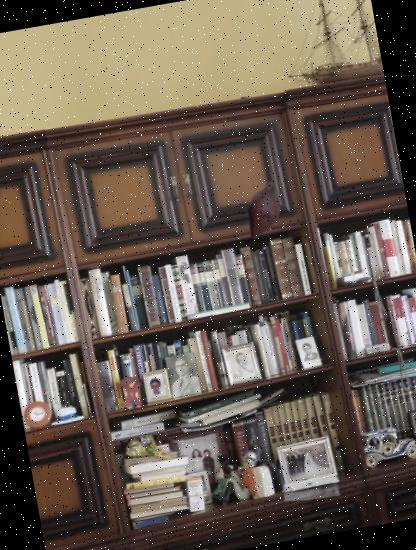Salak: (228, 174, 300, 246)
